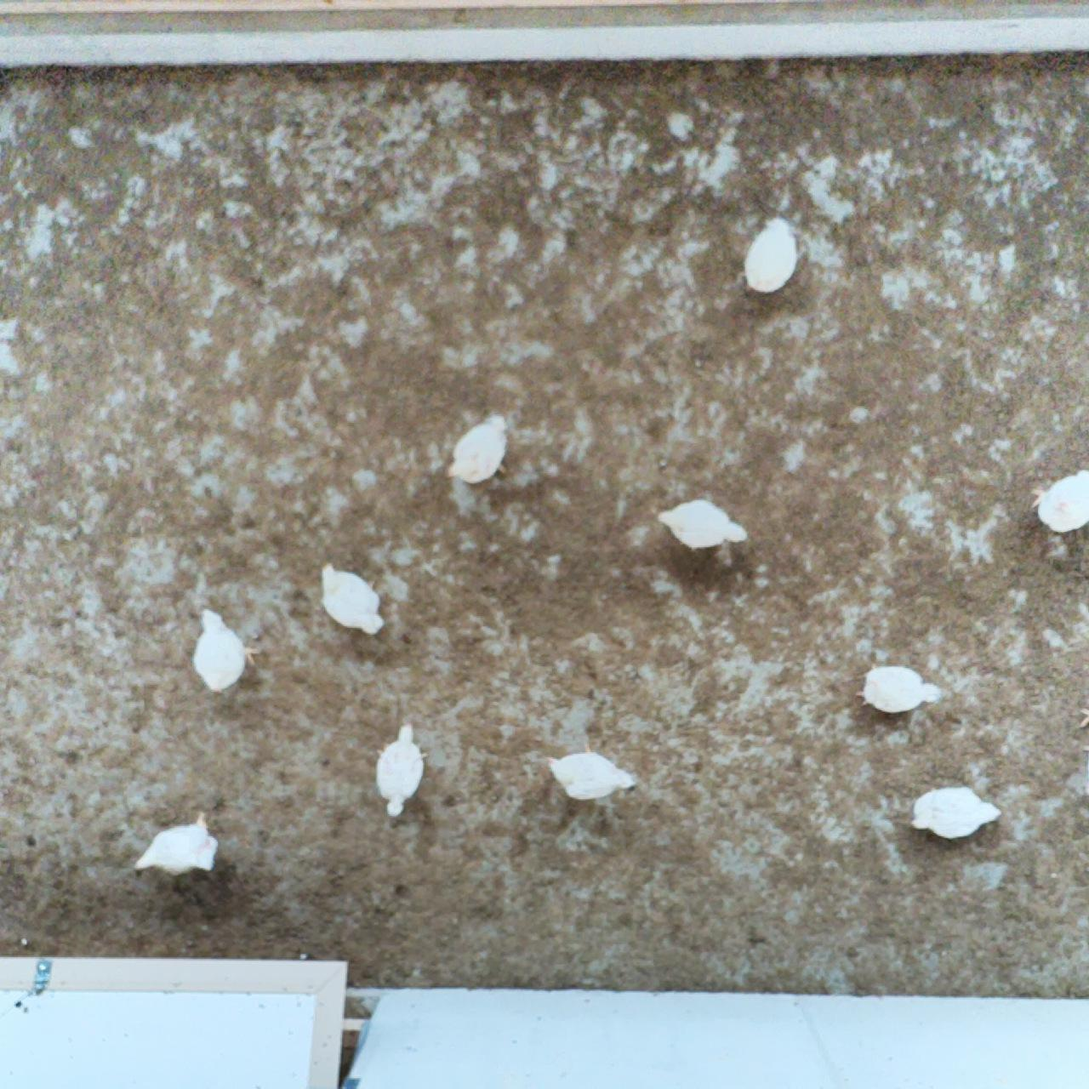chicken: (188, 604, 266, 696), (132, 805, 221, 881), (547, 742, 639, 806), (374, 720, 431, 823), (909, 780, 1003, 840), (318, 560, 389, 638), (445, 410, 515, 487), (656, 498, 753, 553), (859, 660, 944, 718), (740, 217, 801, 295), (1029, 461, 1089, 535)
